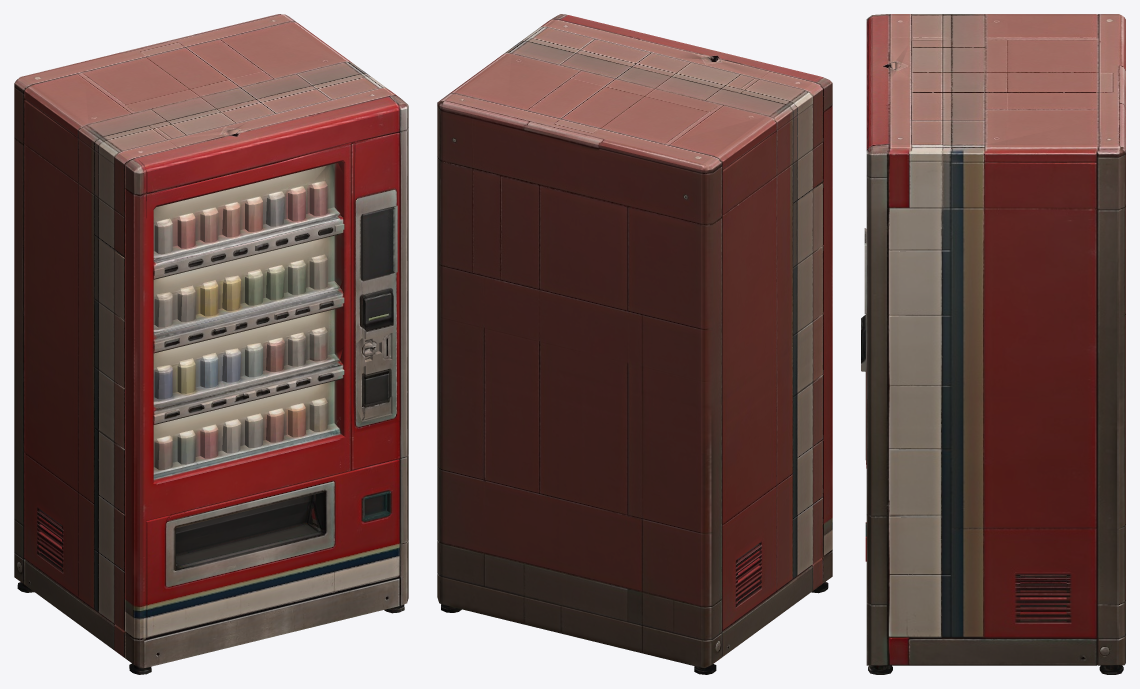
The model's file is decor_4.fbx.
3 views of the same model, side by side, from view 1: azimuth 30°, elevation 25°; view 2: azimuth 150°, elevation 25°; view 3: azimuth 270°, elevation 25° (orthographic). The views are drawn at different scales.
Visible parts, largest first — view 1: decor_4; view 2: decor_4; view 3: decor_4.
Boxes of the visible parts, box(x1,y1,x2,y2) form: decor_4: box(14, 14, 408, 674); decor_4: box(437, 14, 832, 674); decor_4: box(861, 14, 1125, 674).
Size of the model in its own units: 1.07 by 1.9 by 0.8663.
Materials: 1 (1 with a texture image).
